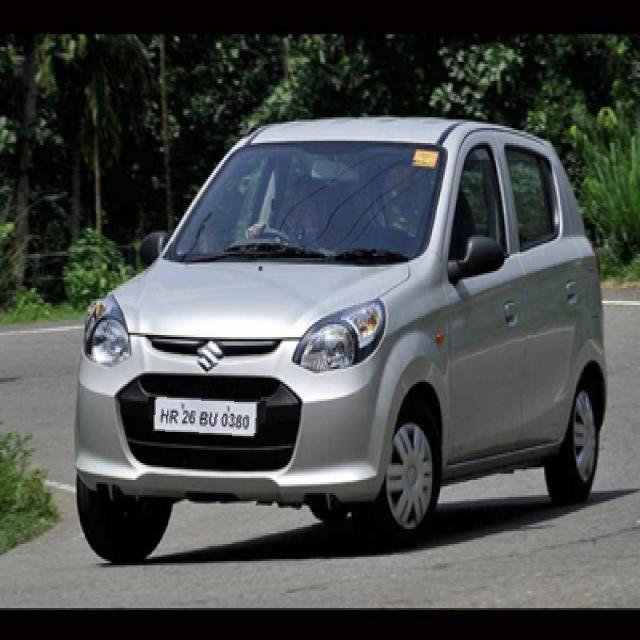licence: (150, 392, 261, 438)
